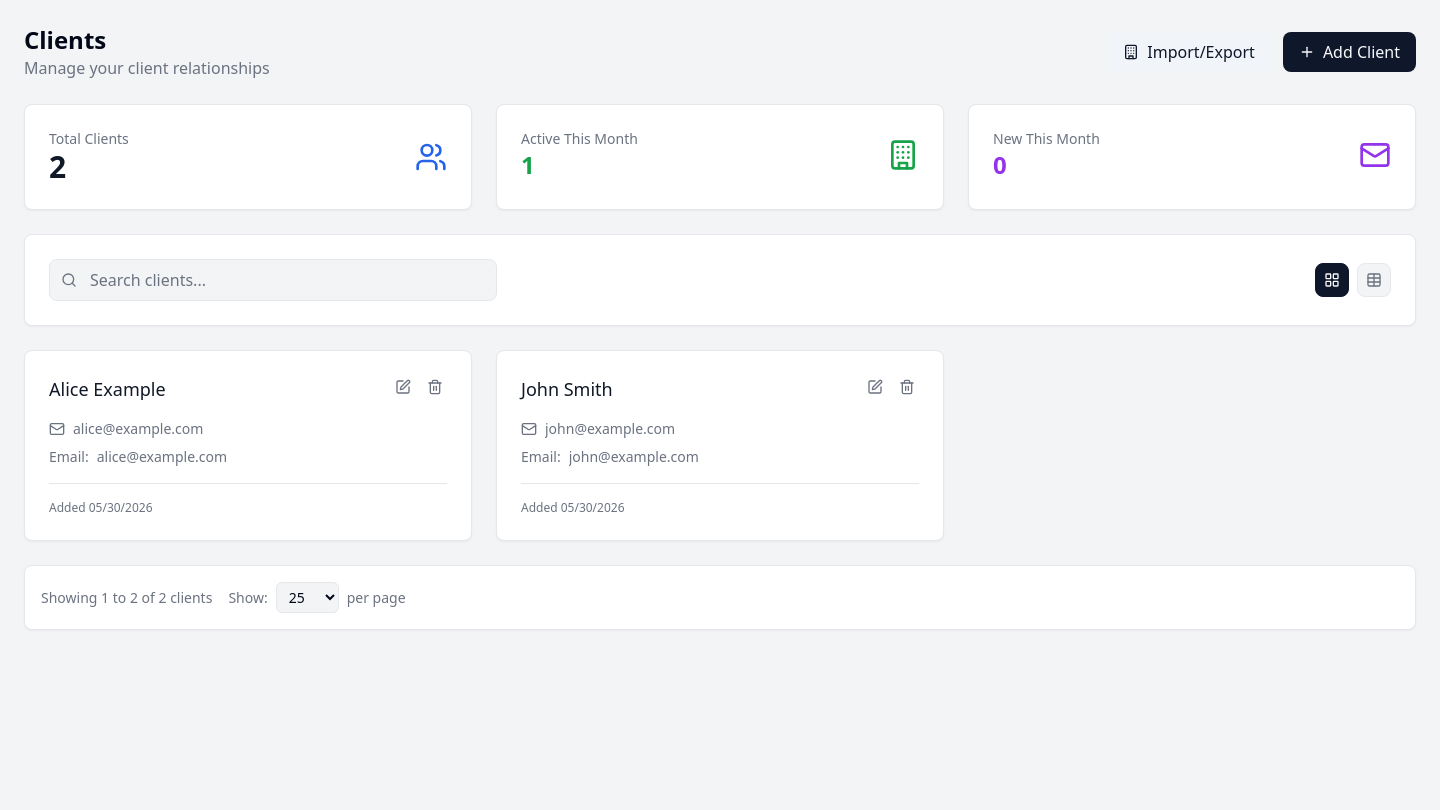
Scenario: ClientManagement search behavior › does not crash when searching with clients that have null company
expect the heading "Clients" is shown: met, box [24, 23, 106, 56]
expect the heading "John Smith" is shown: met, box [521, 377, 613, 401]
Type "john smith" into the field with placeholder "Search clients..." at (273, 280), box [49, 259, 497, 301]
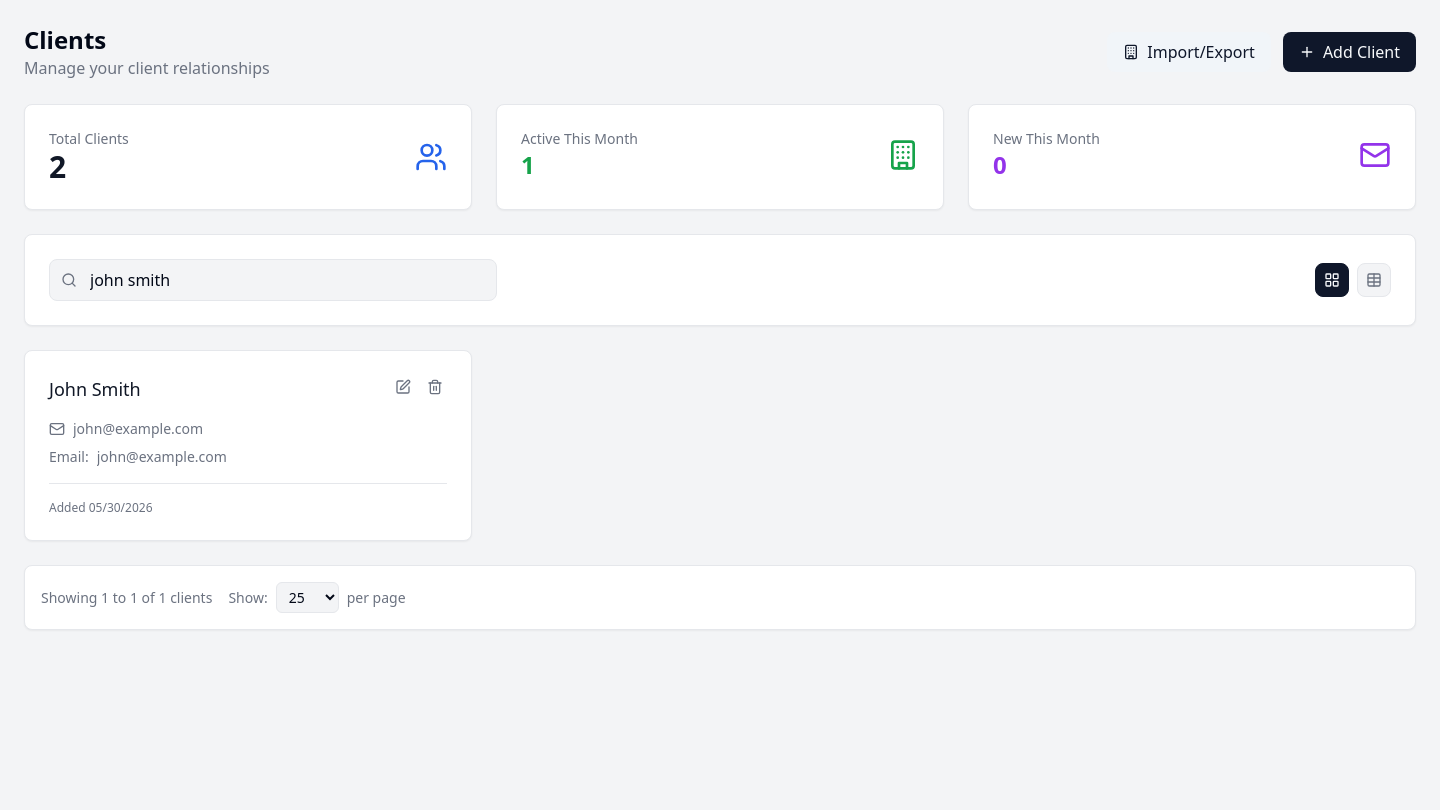
expect the heading "Clients" is shown: met, box [24, 23, 106, 56]
expect the heading "Alice Example" is gone: met
